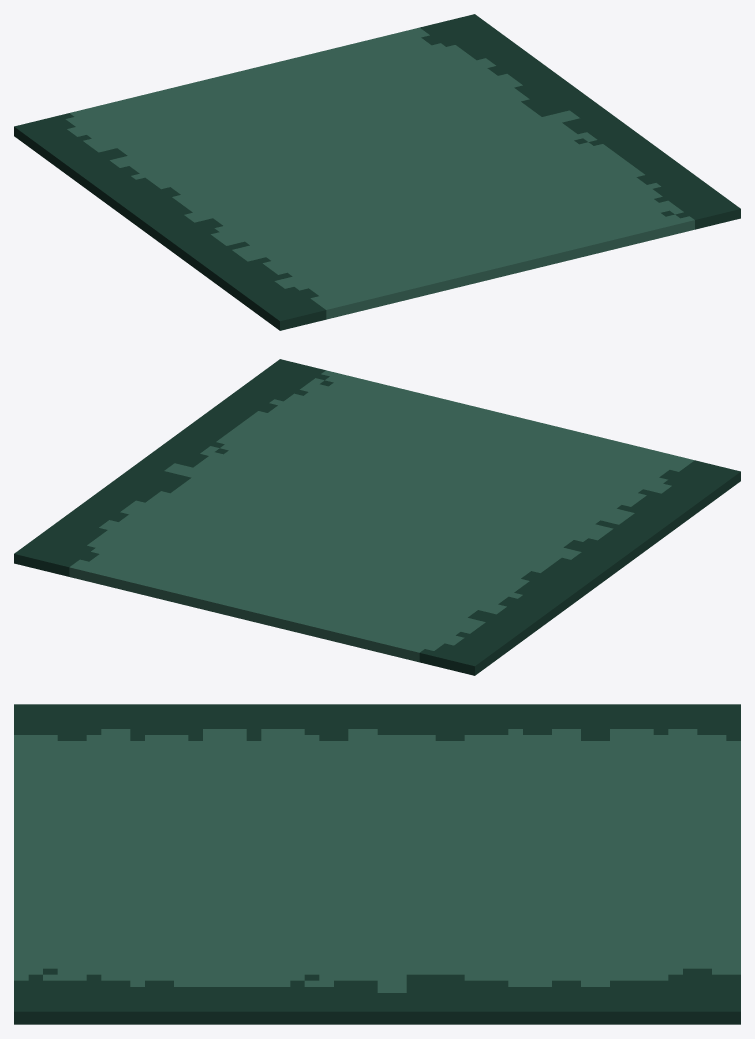
File: StraightGround.obj
3 renders of one model, top to bottom at view 1: azimuth 30°, elevation 25°; view 2: azimuth 150°, elevation 25°; view 3: azimuth 270°, elevation 25°, orthographic. The views are drawn at different scales.
Size of the model in its own units: 5 by 0.1 by 5.
1 material, 1 textured.
